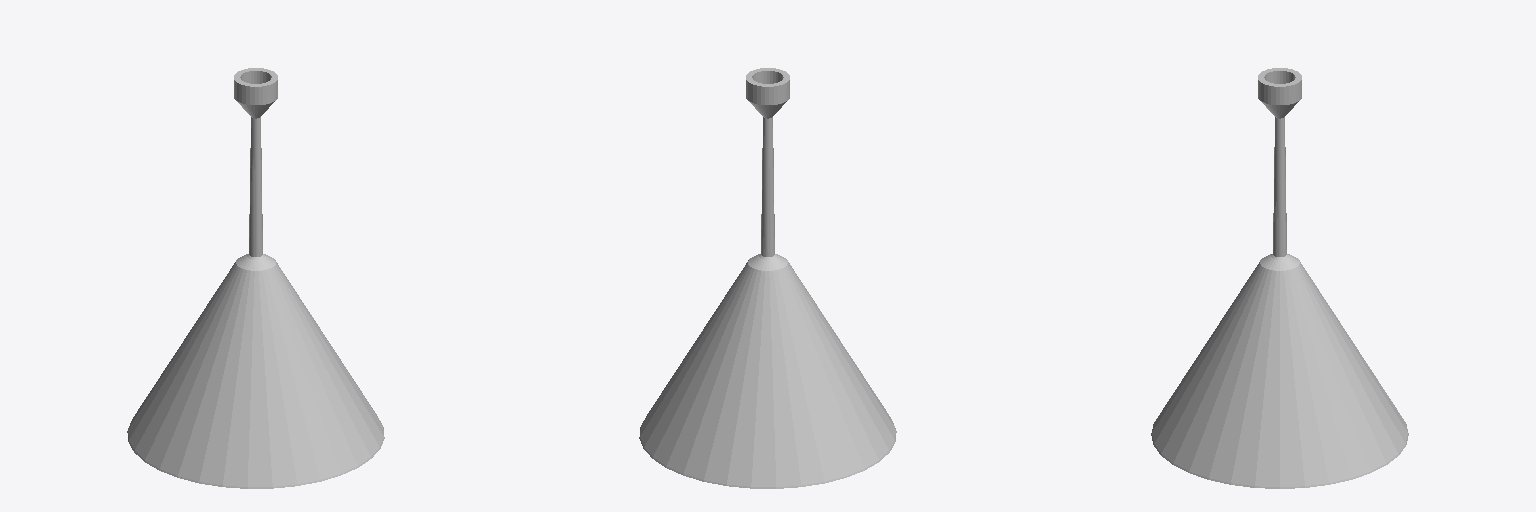
File: lamp.obj
3 renders of one model, left to right at view 1: azimuth 30°, elevation 25°; view 2: azimuth 150°, elevation 25°; view 3: azimuth 270°, elevation 25°, orthographic.
Parts seen in each view (by area): view 1: Cylinder; view 2: Cylinder; view 3: Cylinder.
Part boxes in pixels (x1,y1,x2,y2): Cylinder: (127,68,384,488); Cylinder: (639,68,896,488); Cylinder: (1151,68,1408,488).
Size of the model in its own units: 3.92 by 5.99 by 3.92.